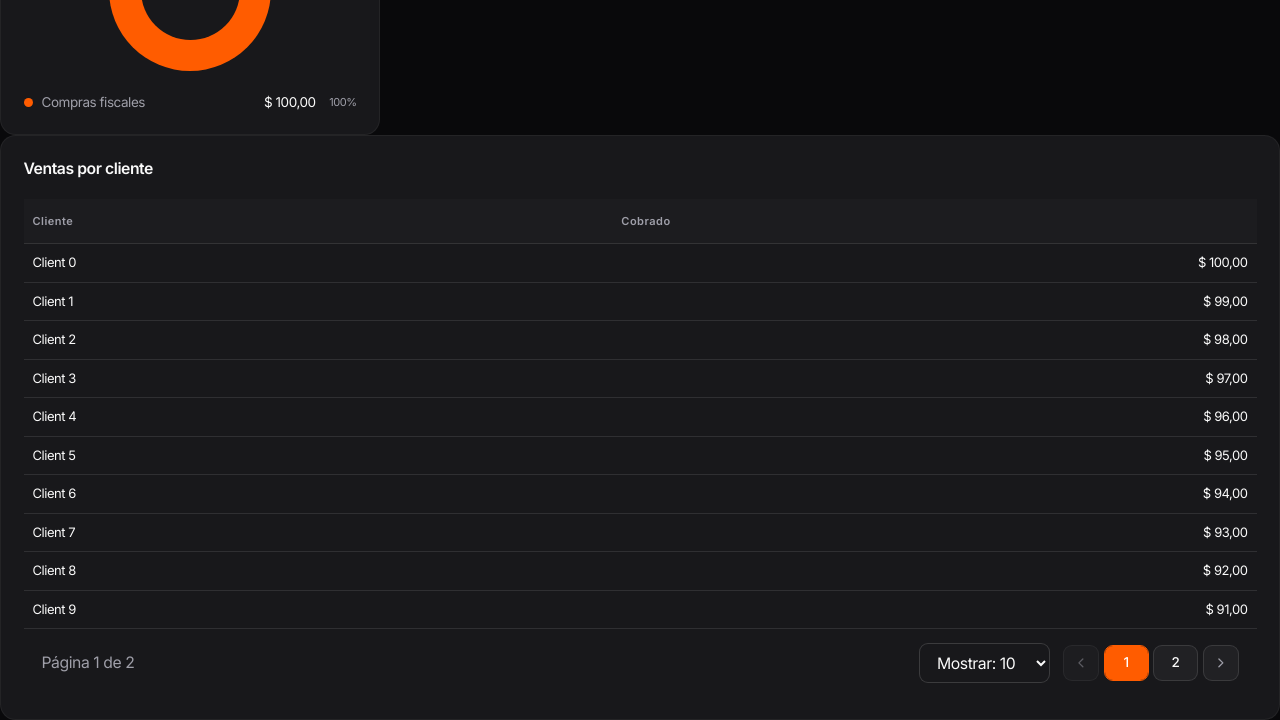
Analytics presentation components › renders purchase distribution as a donut and paginates client sales
(page scrolled)
Expected: the text "Client 0" is shown, [24, 244, 612, 282]
Expected: the text "Client 10" is not shown
Click the button "2" at (1176, 663), box [1153, 645, 1198, 681]
(page scrolled)
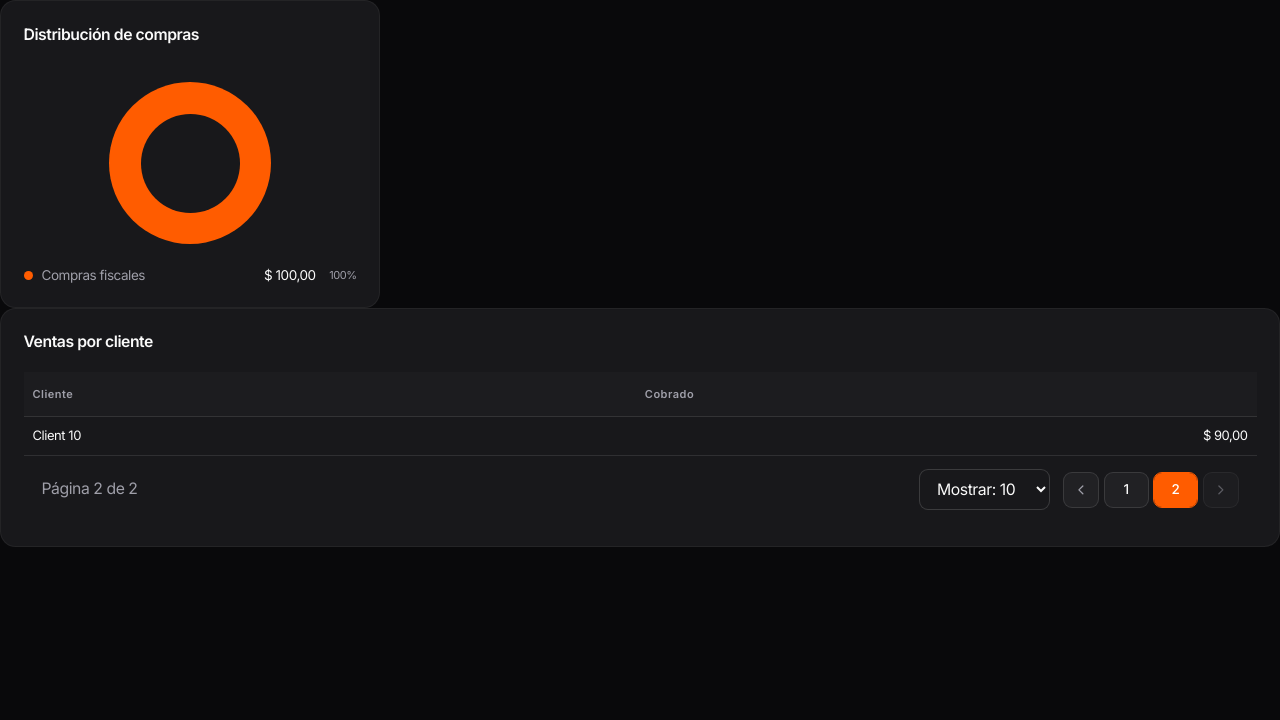
Expected: the text "Client 10" is shown, [24, 417, 636, 455]
